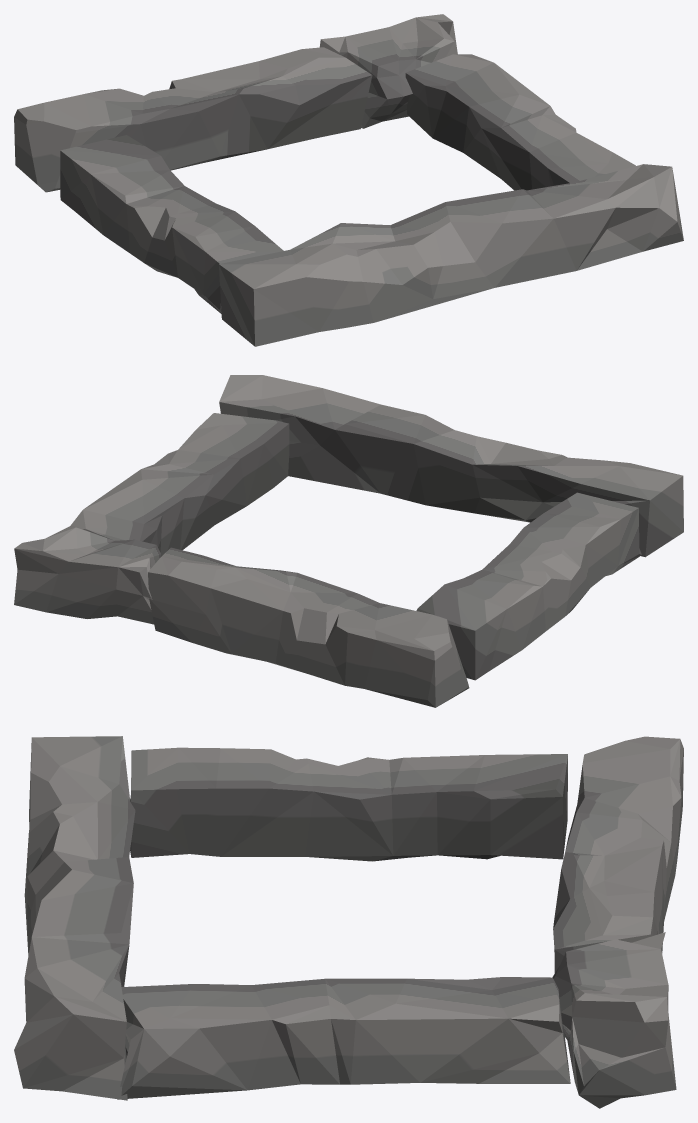
The model's file is SM_Prop_Fire_Pit_05.fbx.
3 views of the same model, one above another, from view 1: azimuth 30°, elevation 25°; view 2: azimuth 150°, elevation 25°; view 3: azimuth 270°, elevation 25° (orthographic). The views are drawn at different scales.
Visible parts, largest first — view 1: SM_Prop_Fire_Pit_05; view 2: SM_Prop_Fire_Pit_05; view 3: SM_Prop_Fire_Pit_05.
Part boxes in pixels (x1,y1,x2,y2): SM_Prop_Fire_Pit_05: (14,14,683,346); SM_Prop_Fire_Pit_05: (14,375,683,707); SM_Prop_Fire_Pit_05: (14,736,683,1108).
Bounding box in the file's own units: 116 × 20.86 × 115.
